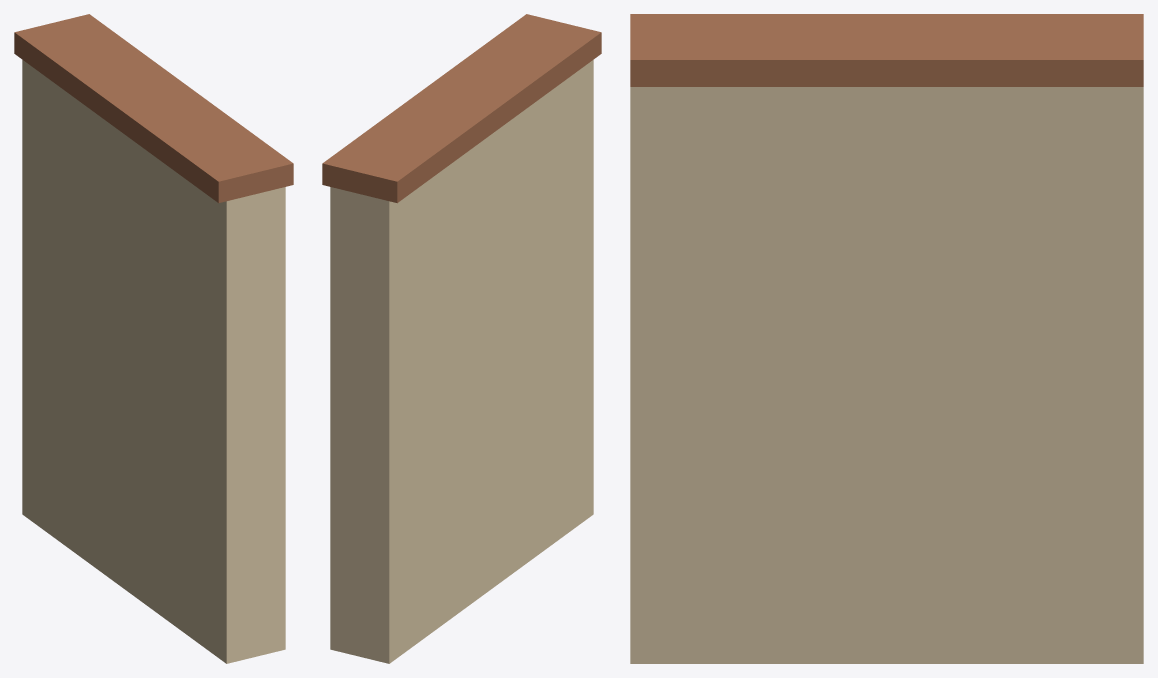
File: Wall.fbx
3 views of the same model, side by side, from view 1: azimuth 30°, elevation 25°; view 2: azimuth 150°, elevation 25°; view 3: azimuth 270°, elevation 25° (orthographic). The views are drawn at different scales.
Visible parts, largest first — view 1: Wall; view 2: Wall; view 3: Wall.
Boxes of the visible parts, x1,y1,x2,y2 form: Wall: (14,14,293,663); Wall: (322,14,601,663); Wall: (630,14,1143,663).
Size of the model in its own units: 0.5086 by 2.4 by 3.14.
